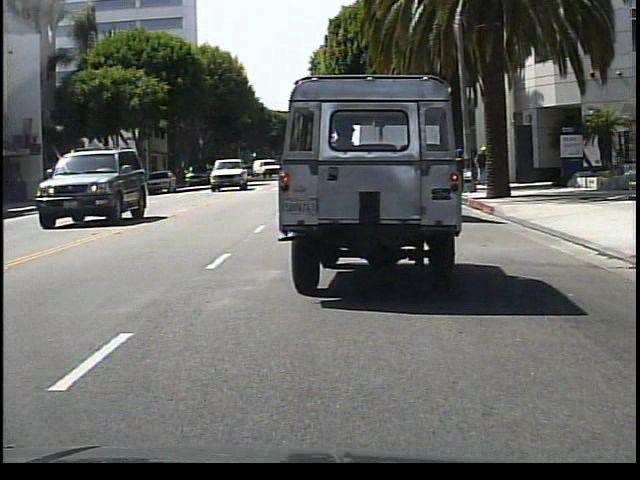person: (474, 144, 488, 184)
